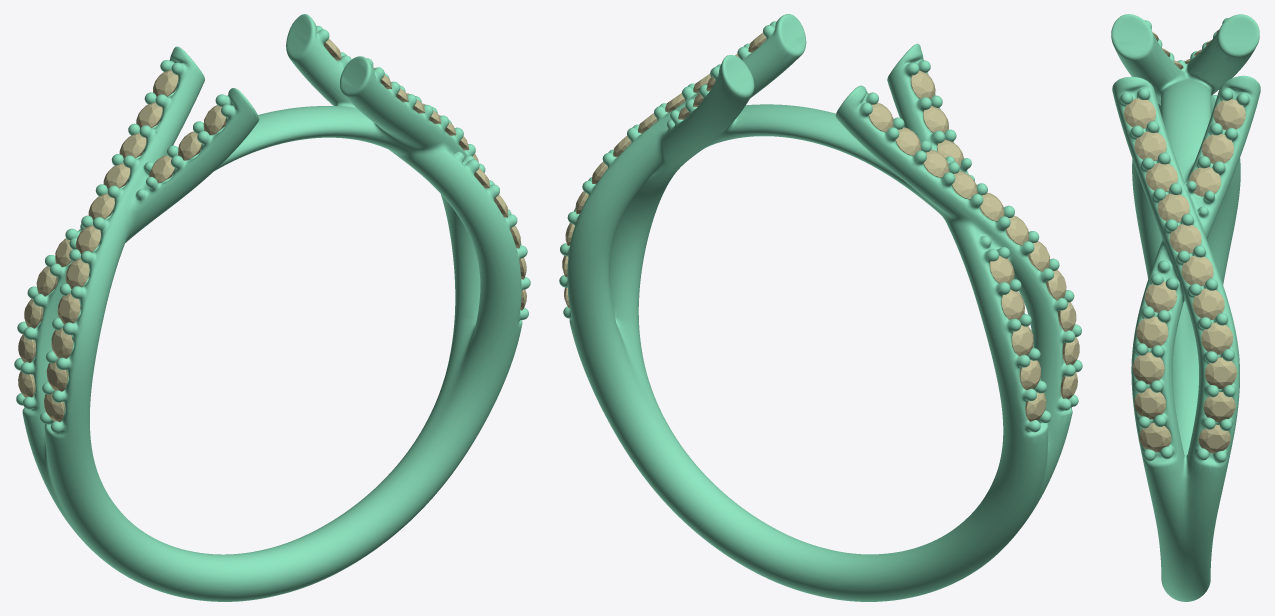
3 views of the same model, side by side, from view 1: azimuth 30°, elevation 25°; view 2: azimuth 150°, elevation 25°; view 3: azimuth 270°, elevation 25° (orthographic). The views are drawn at different scales.
Visible parts, largest first — view 1: Metal02; view 2: Metal02; view 3: Metal02, Diamond_Gem.015, Diamond_Gem.013, Diamond_Gem.016, Diamond_Gem, Diamond_Gem.001, Diamond_Gem.010, Diamond_Gem.002, Diamond_Gem.012, Diamond_Gem.005, Diamond_Gem.017, Diamond_Gem.009 (+8 smaller).
Boxes of the visible parts, left/top/right/bottom form: Metal02: left=14, top=14, right=530, bottom=601; Metal02: left=559, top=14, right=1082, bottom=601; Metal02: left=1111, top=14, right=1260, bottom=601; Diamond_Gem.015: left=1136, top=316, right=1168, bottom=348; Diamond_Gem.013: left=1213, top=99, right=1245, bottom=130; Diamond_Gem.016: left=1132, top=352, right=1164, bottom=384; Diamond_Gem: left=1192, top=288, right=1224, bottom=320; Diamond_Gem.001: left=1201, top=322, right=1233, bottom=354; Diamond_Gem.010: left=1181, top=255, right=1213, bottom=286; Diamond_Gem.002: left=1205, top=357, right=1236, bottom=388; Diamond_Gem.012: left=1202, top=134, right=1233, bottom=163; Diamond_Gem.005: left=1124, top=98, right=1155, bottom=128; Diamond_Gem.017: left=1134, top=388, right=1166, bottom=419; Diamond_Gem.009: left=1169, top=224, right=1201, bottom=253.
Bounding box in the file's own units: 21.29 × 22.81 × 5.81.
